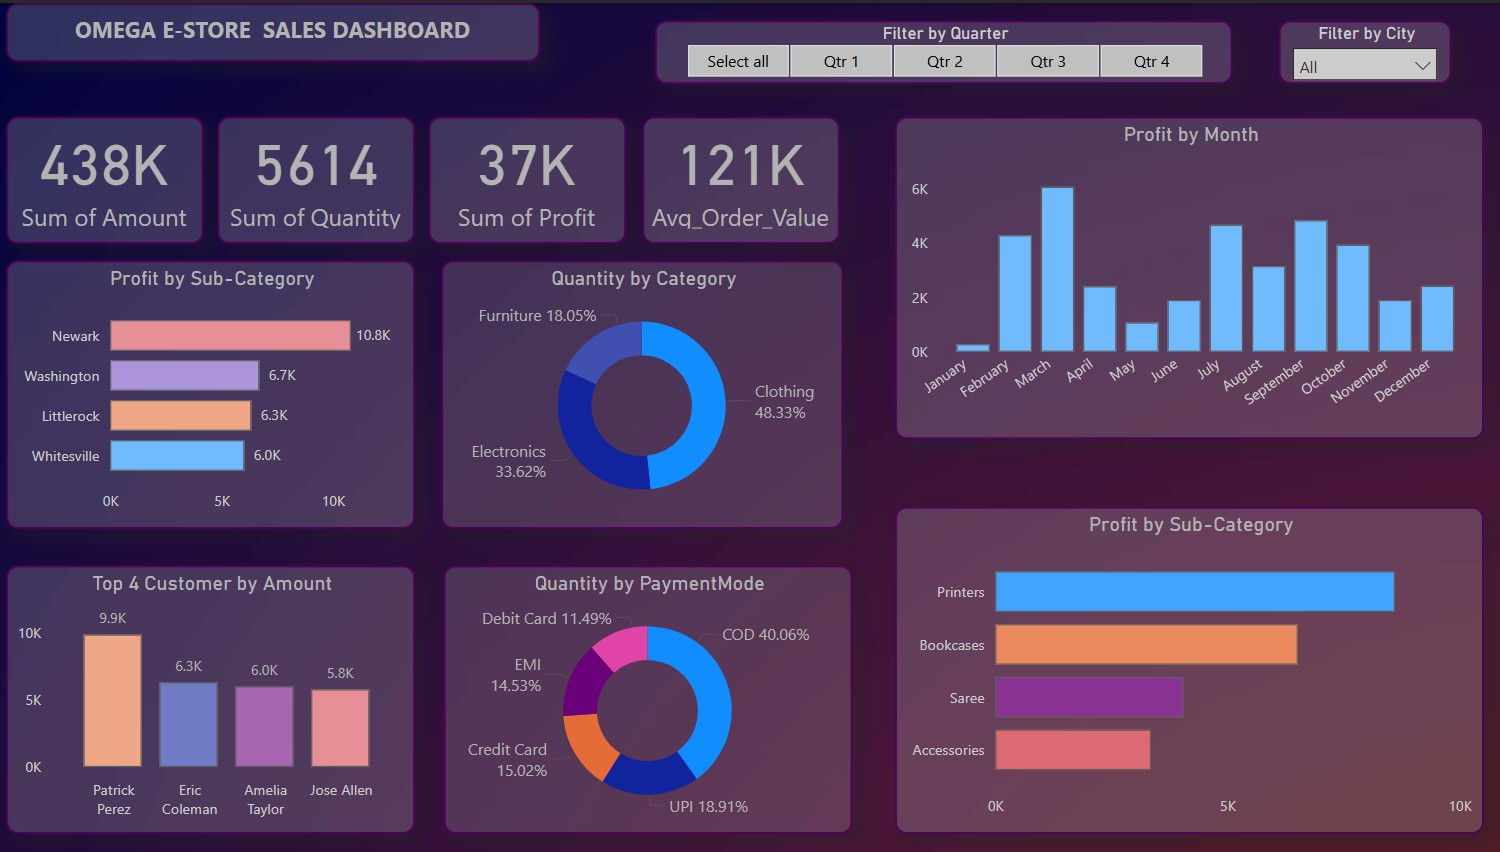

This screenshot's page, from the dashboard's own definition file:
{"tool":"powerbi","page":{"name":"Page 1","canvas":[1280,720],"ordinal":0},"visuals":[{"type":"textbox","box":[9.6,0,450.1,49.4],"z":0},{"type":"columnChart","title":"Profit by Month","fields":{"Category":["Orders.Order_Date.Variation.Date Hierarchy.Month"],"Y":["Details.Profit"]},"box":[758.8,96.1,496.7,271.7],"z":1000},{"type":"barChart","title":"Profit by Sub-Category","fields":{"Category":["Details.Sub-Category"],"Y":["Details.Profit"]},"box":[758.8,425.4,496.7,275.8],"z":2000},{"type":"donutChart","title":"Quantity by Category","fields":{"Category":["Details.Category"],"Y":["Details.Quantity"]},"box":[376,216.8,338.9,226.4],"z":3000},{"type":"donutChart","title":"Quantity by PaymentMode","fields":{"Y":["Details.Quantity"],"Category":["Details.PaymentMode"]},"box":[378.7,474.8,344.4,226.4],"z":4000},{"type":"card","fields":{"Values":["Details.Amount"]},"box":[9.6,96.1,166,107],"z":5000},{"type":"card","fields":{"Values":["Details.Quantity"]},"box":[188,96.1,166,107],"z":6000},{"type":"card","fields":{"Values":["Details.Profit"]},"box":[366.4,96.1,166,107],"z":7000},{"type":"card","fields":{"Values":["Details.Avg_Order_Value"]},"box":[546.1,96.1,166,107],"z":8000},{"type":"barChart","title":"Profit by Sub-Category","fields":{"Category":["Orders.City"],"Y":["Details.Amount"]},"box":[9.6,216.8,344.4,226.4],"z":9000},{"type":"columnChart","title":"Top 4 Customer by Amount","fields":{"Y":["Details.Amount"],"Category":["Orders.Full_Name"]},"box":[9.6,474.8,344.4,226.4],"z":10000},{"type":"slicer","title":"Filter by Quarter","fields":{"Values":["Orders.Order_Date.Variation.Date Hierarchy.Quarter"]},"box":[557.1,15.1,487.1,53.5],"z":11000},{"type":"slicer","title":"Filter by City","fields":{"Values":["Orders.City"]},"box":[1082.7,15.1,145.5,53.5],"z":12000}]}

Visuals, with their boxes in screenshot pixels (x1, y1, x2, y2), scaled from the page's 1280x720 canvas onto the 1500x852 screenshot:
textbox: [11, 0, 539, 58]
"Profit by Month" columnChart: [889, 114, 1471, 435]
"Profit by Sub-Category" barChart: [889, 503, 1471, 830]
"Quantity by Category" donutChart: [441, 257, 838, 524]
"Quantity by PaymentMode" donutChart: [444, 562, 847, 830]
card - Details.Amount: [11, 114, 206, 240]
card - Details.Quantity: [220, 114, 415, 240]
card - Details.Profit: [429, 114, 624, 240]
card - Details.Avg_Order_Value: [640, 114, 834, 240]
"Profit by Sub-Category" barChart: [11, 257, 415, 524]
"Top 4 Customer by Amount" columnChart: [11, 562, 415, 830]
"Filter by Quarter" slicer: [653, 18, 1224, 81]
"Filter by City" slicer: [1269, 18, 1439, 81]
